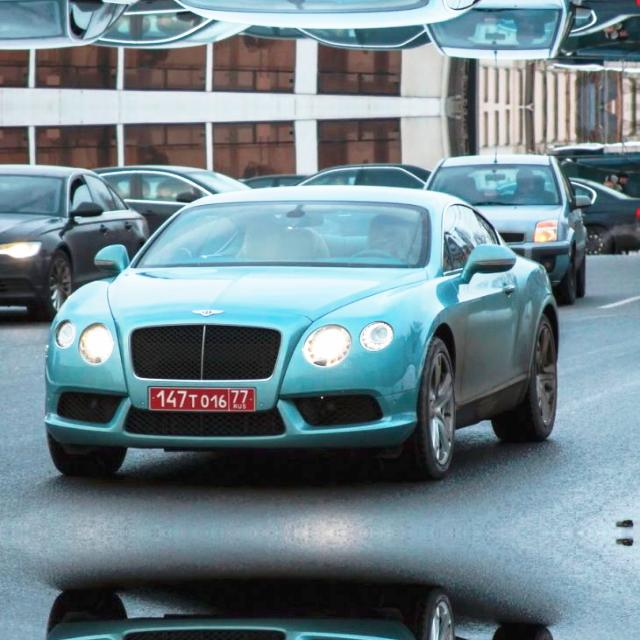diplomatic: (147, 383, 257, 415)
